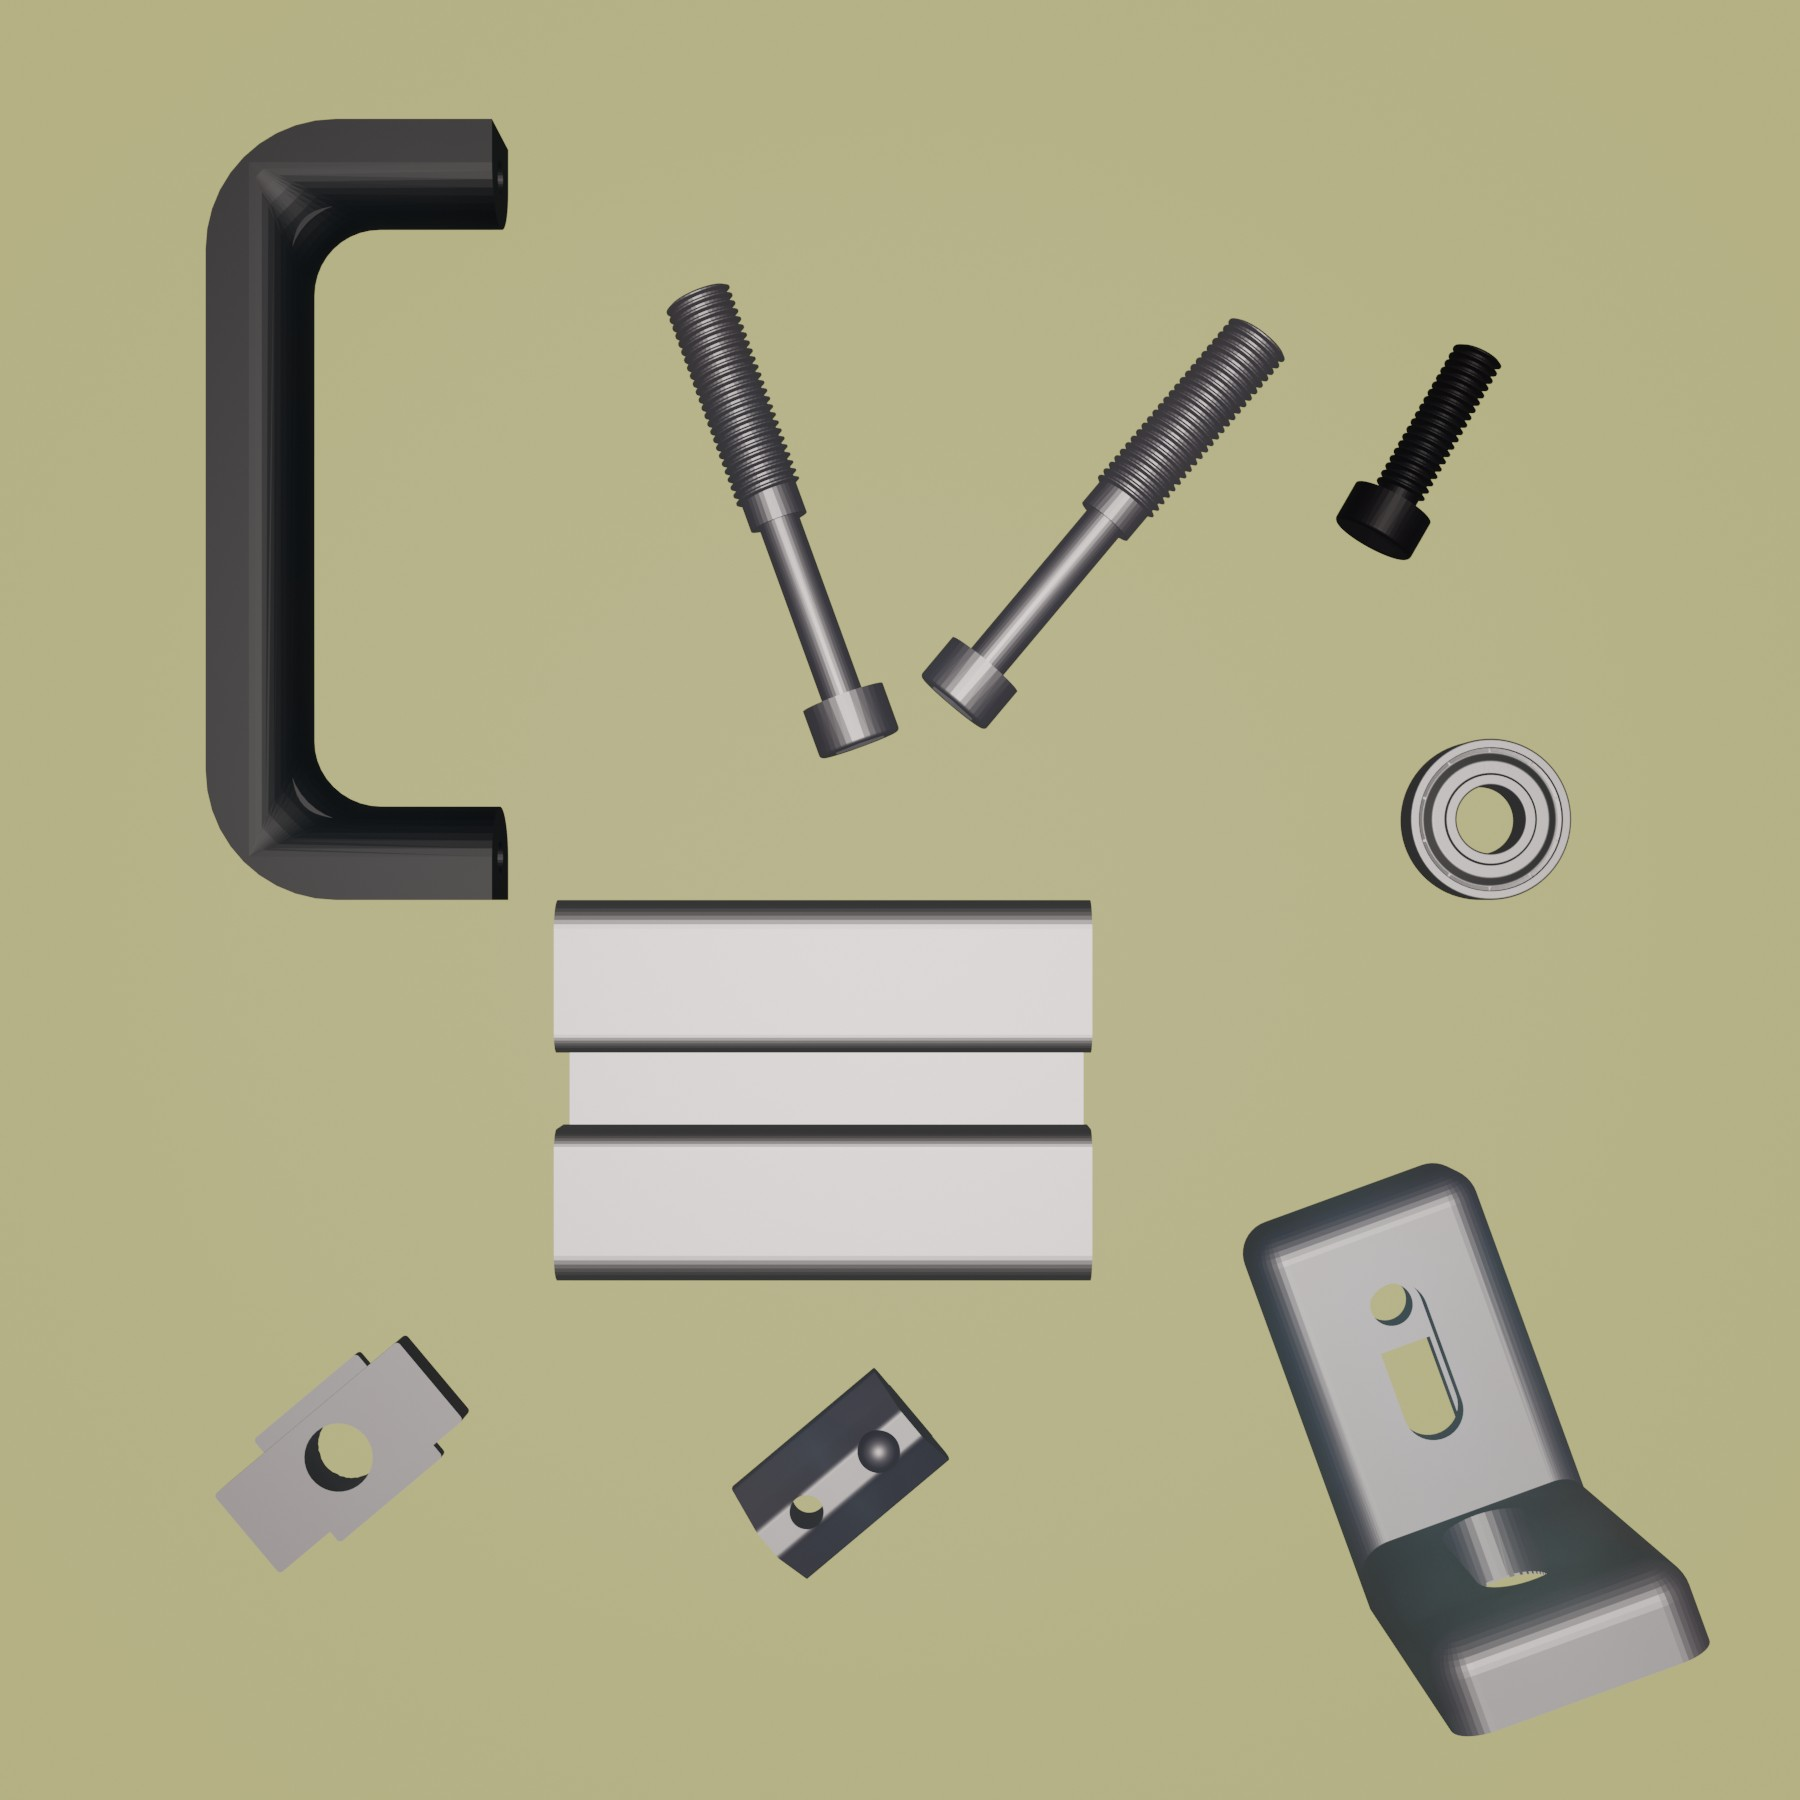Aluminium Extension: (546, 895, 1099, 1289)
Ball Bearing: (1398, 735, 1571, 903)
Multiwinkel: (1240, 1160, 1714, 1739)
Pull Handle: (198, 114, 513, 907)
Shoulder Socket Head Cap Screw: (920, 315, 1289, 730), (663, 279, 902, 763)
Socket Head Cap Screw: (1330, 338, 1507, 564)
T Nut Square: (213, 1330, 470, 1574)
T Spring Nut: (729, 1365, 953, 1581)
